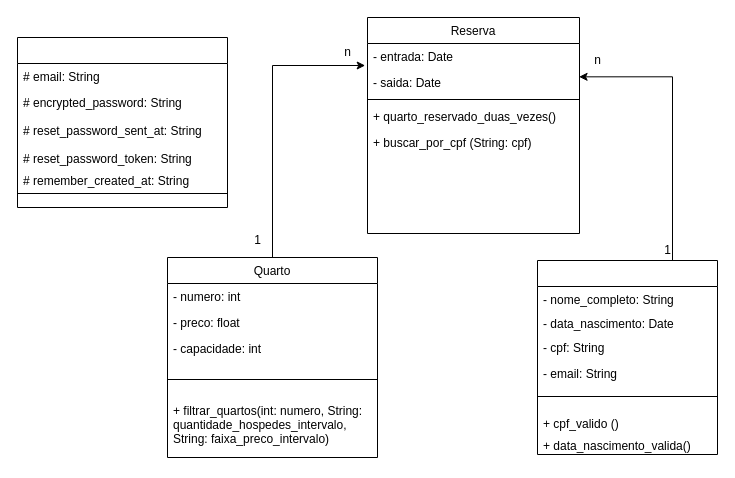
This 735x478 diagram has some shape labels left out. The shapes that lost their labels are listed below. From the top down, each one's box as (x1, y1, x2, y2) in pixels, then its label:
(16, 36, 228, 208): Admin
(536, 260, 718, 454): Cliente
